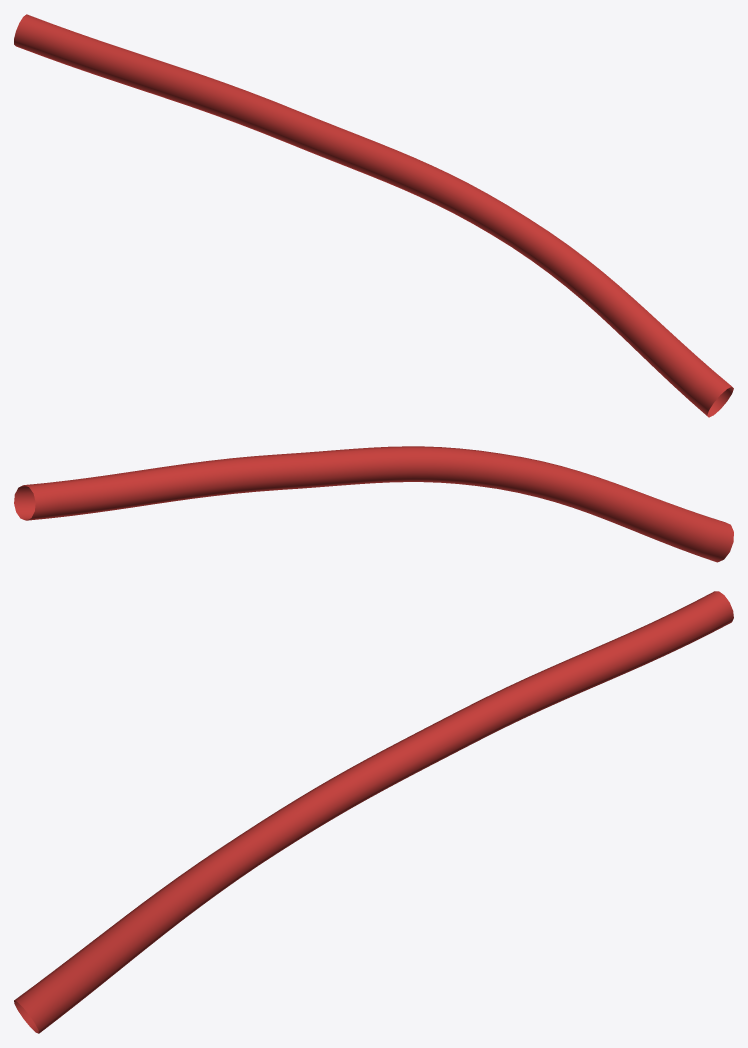
3 renders of one model, top to bottom at view 1: azimuth 90°, elevation 25°; view 2: azimuth 150°, elevation 25°; view 3: azimuth 330°, elevation 25°, orthographic. The views are drawn at different scales.
Visible parts, largest first — view 1: 左侧肱深动脉; view 2: 左侧肱深动脉; view 3: 左侧肱深动脉.
Part boxes in pixels (bbox=[...]): 左侧肱深动脉: bbox=[14, 14, 733, 417]; 左侧肱深动脉: bbox=[14, 446, 733, 562]; 左侧肱深动脉: bbox=[14, 591, 733, 1033].
Size of the model in its own units: 0.0518 by 0.0351 by 0.0928.
